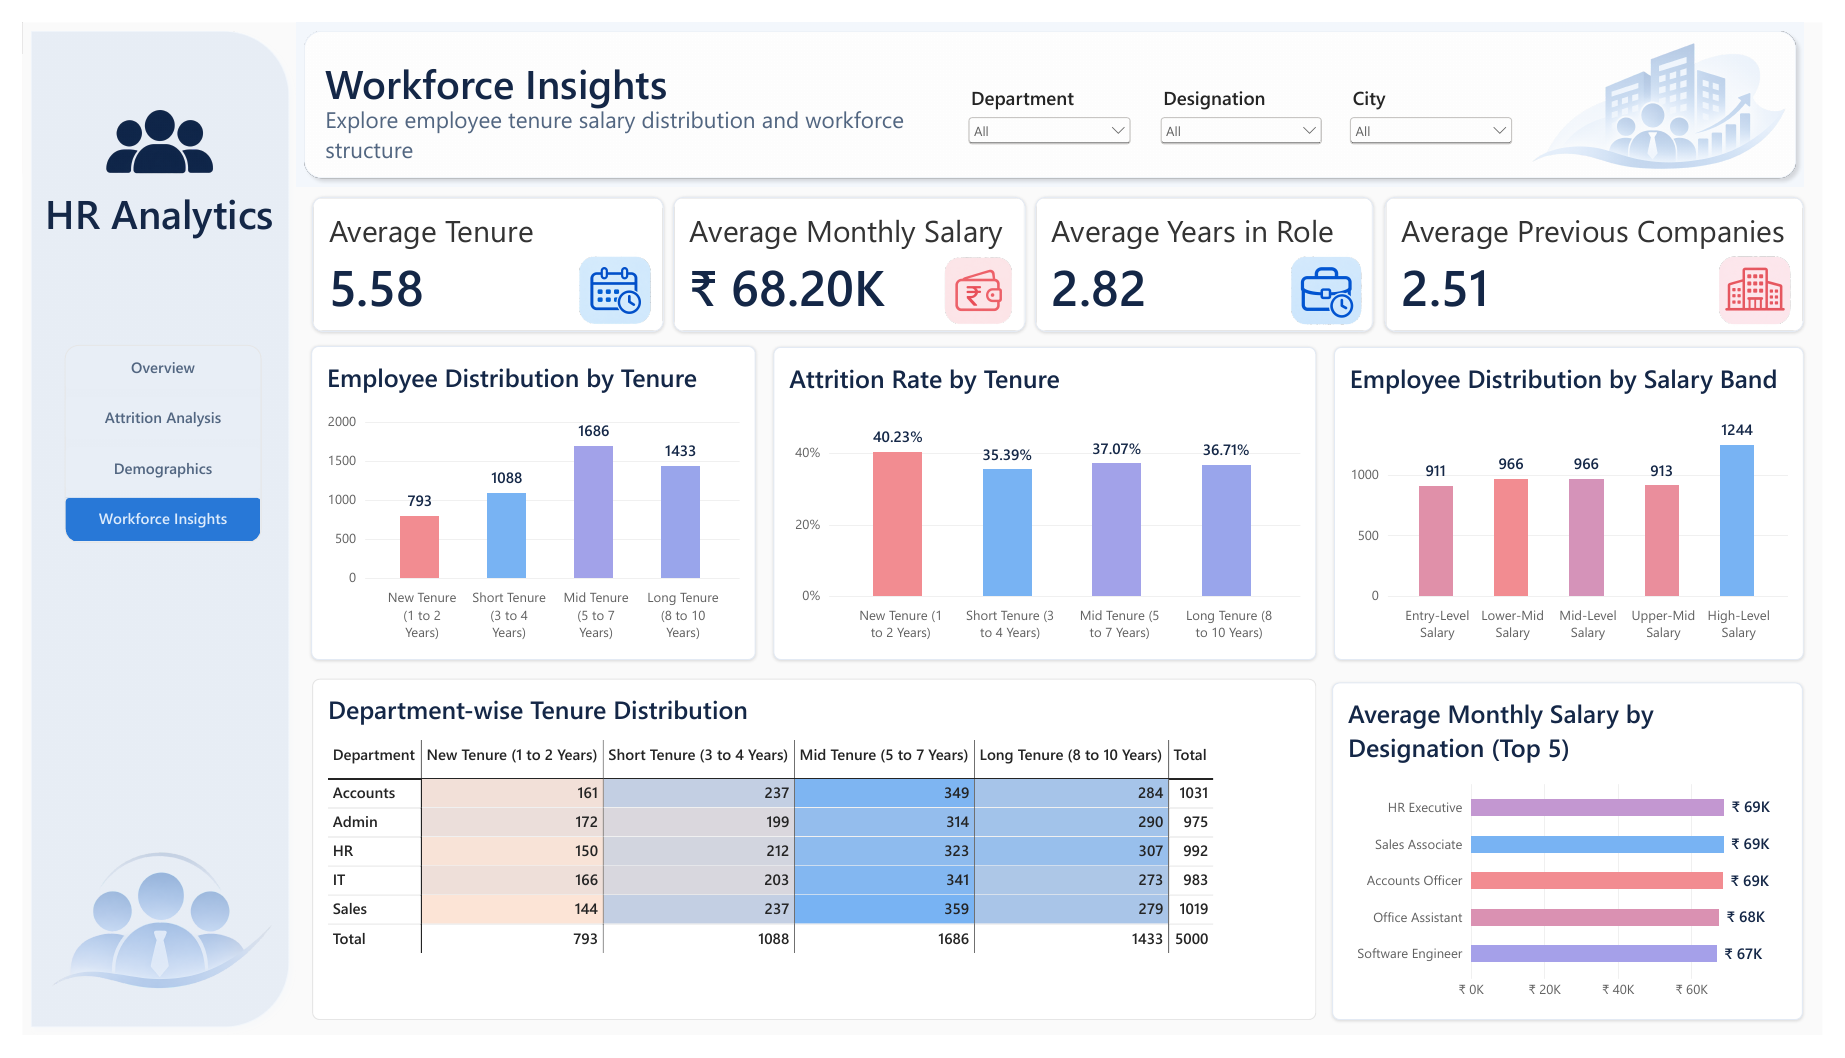

What the dashboard file says about the page in this screenshot:
{"tool":"powerbi","page":{"name":"Workforce Insights","canvas":[1920,1080],"ordinal":3},"visuals":[{"type":"shape","box":[292,0,1608,175],"z":0},{"type":"shape","box":[0,0,292.5,1080],"z":1000},{"type":"cardVisual","title":"Hello","fields":{"Data":["HR_Attrition_Indian_Dataset.Average Tenure"]},"box":[308.6,185.7,375.7,144.3],"z":2000},{"type":"cardVisual","fields":{"Data":["HR_Attrition_Indian_Dataset.Average Monthly Salary"]},"box":[694,186,375.7,144.3],"z":3000},{"type":"cardVisual","fields":{"Data":["HR_Attrition_Indian_Dataset.Average Years in Role"]},"box":[1080,186,361.4,144.3],"z":4000},{"type":"cardVisual","fields":{"Data":["HR_Attrition_Indian_Dataset.Average Previous Companies"]},"box":[1453,186,447,144],"z":5000},{"type":"textbox","box":[322.5,36.2,628.8,63.8],"z":6000},{"type":"textbox","box":[322.9,87.1,620,77.1],"z":7000},{"type":"pageNavigator","box":[45,343.8,210,211.2],"z":8000},{"type":"image","box":[944,245,151.8,80],"z":9000},{"type":"clusteredColumnChart","title":"Employee Distribution by Tenure","fields":{"Category":["HR_Attrition_Indian_Dataset.Tenure_Group"],"Y":["HR_Attrition_Indian_Dataset.Total Employees"]},"box":[308.3,345,473.3,335],"z":10000},{"type":"clusteredColumnChart","title":"Attrition Rate by Tenure","fields":{"Category":["HR_Attrition_Indian_Dataset.Tenure_Group"],"Y":["HR_Attrition_Indian_Dataset.Attrition Rate"]},"box":[801.4,345.7,578.6,334.3],"z":11000},{"type":"clusteredColumnChart","title":"Employee Distribution by Salary Band","fields":{"Category":["HR_Attrition_Indian_Dataset.Salary_Group"],"Y":["HR_Attrition_Indian_Dataset.Total Employees"]},"box":[1398.6,345.7,501.4,334.3],"z":12000},{"type":"pivotTable","title":"Department-wise Tenure Distribution","fields":{"Columns":["HR_Attrition_Indian_Dataset.Tenure_Group"],"Rows":["HR_Attrition_Indian_Dataset.Department"],"Values":["HR_Attrition_Indian_Dataset.Total Employees"]},"box":[308.6,700,1071.4,364.3],"z":13000},{"type":"clusteredBarChart","title":"Average Monthly Salary by Designation (Top 5)","fields":{"Category":["HR_Attrition_Indian_Dataset.Designation"],"Y":["HR_Attrition_Indian_Dataset.Average Monthly Salary"]},"box":[1397.1,704.3,502,360],"z":14000},{"type":"image","box":[546.4,245.5,172,80],"z":15000},{"type":"image","box":[1305,245,172,80],"z":16000},{"type":"image","box":[1783,245,130,80],"z":17000},{"type":"textbox","box":[25,175,245,225],"z":18000},{"type":"image","box":[0,825,300,255],"z":19000},{"type":"slicer","fields":{"Values":["HR_Attrition_Indian_Dataset.Department"]},"box":[1004.3,67.1,182.9,90],"z":20000},{"type":"slicer","fields":{"Values":["HR_Attrition_Indian_Dataset.Designation"]},"box":[1208.6,67.1,182.9,90],"z":21000},{"type":"slicer","fields":{"Values":["HR_Attrition_Indian_Dataset.City"]},"box":[1411.4,67.1,182.9,90],"z":22000},{"type":"image","box":[1595,0,300,175],"z":23000},{"type":"image","box":[55,40,181.7,156.7],"z":24000}]}

Visuals, with their boxes in screenshot pixels (x1, y1, x2, y2), scaled from the page's 1920x1080 canvas onto the 1845x1058 screenshot:
shape: l=281, t=0, r=1826, b=171
shape: l=0, t=0, r=281, b=1057
"Hello" cardVisual: l=297, t=182, r=658, b=323
cardVisual - HR_Attrition_Indian_Dataset.Average Monthly Salary: l=667, t=182, r=1028, b=324
cardVisual - HR_Attrition_Indian_Dataset.Average Years in Role: l=1038, t=182, r=1385, b=324
cardVisual - HR_Attrition_Indian_Dataset.Average Previous Companies: l=1396, t=182, r=1826, b=323
textbox: l=310, t=35, r=914, b=98
textbox: l=310, t=85, r=906, b=161
pageNavigator: l=43, t=337, r=245, b=544
image: l=907, t=240, r=1053, b=318
"Employee Distribution by Tenure" clusteredColumnChart: l=296, t=338, r=751, b=666
"Attrition Rate by Tenure" clusteredColumnChart: l=770, t=339, r=1326, b=666
"Employee Distribution by Salary Band" clusteredColumnChart: l=1344, t=339, r=1826, b=666
"Department-wise Tenure Distribution" pivotTable: l=297, t=686, r=1326, b=1043
"Average Monthly Salary by Designation (Top 5)" clusteredBarChart: l=1343, t=690, r=1825, b=1043
image: l=525, t=240, r=690, b=319
image: l=1254, t=240, r=1419, b=318
image: l=1713, t=240, r=1838, b=318
textbox: l=24, t=171, r=259, b=392
image: l=0, t=808, r=288, b=1057
slicer - HR_Attrition_Indian_Dataset.Department: l=965, t=66, r=1141, b=154
slicer - HR_Attrition_Indian_Dataset.Designation: l=1161, t=66, r=1337, b=154
slicer - HR_Attrition_Indian_Dataset.City: l=1356, t=66, r=1532, b=154
image: l=1533, t=0, r=1821, b=171
image: l=53, t=39, r=227, b=193
